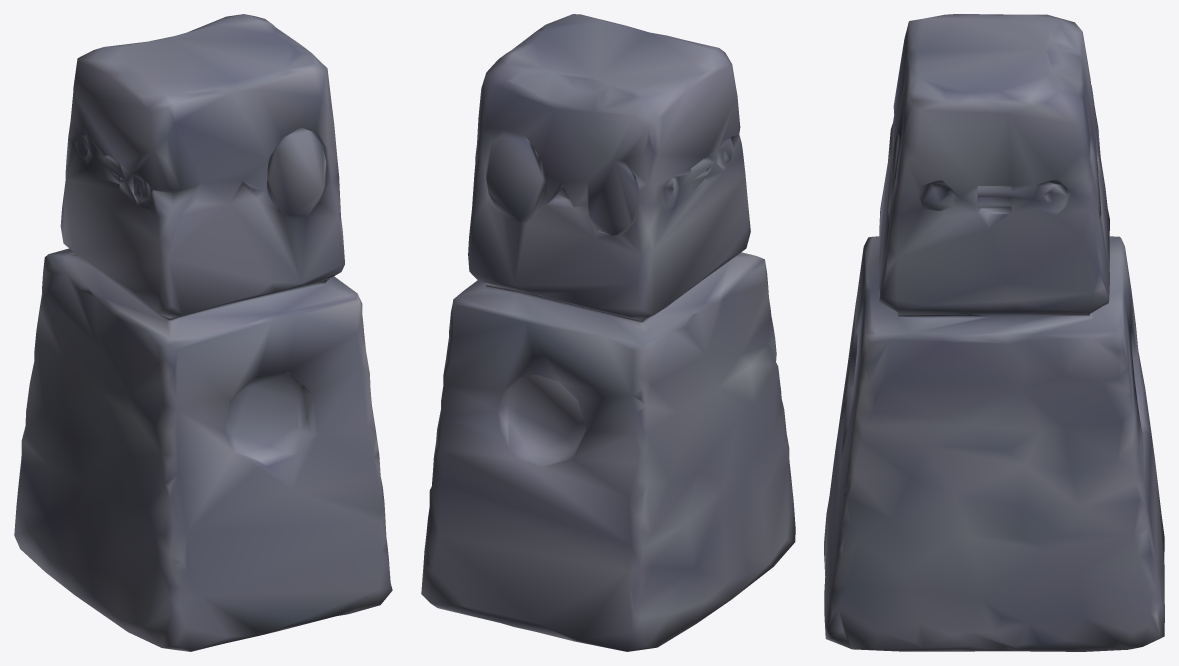
Rendered from building_stacked.glb.
3 views of the same model, side by side, from view 1: azimuth 30°, elevation 25°; view 2: azimuth 150°, elevation 25°; view 3: azimuth 270°, elevation 25° (orthographic). The views are drawn at different scales.
Parts seen in each view (by area): view 1: geometry_0; view 2: geometry_0; view 3: geometry_0.
Part boxes in pixels (bbox=[...]): geometry_0: bbox=[14, 14, 392, 651]; geometry_0: bbox=[421, 14, 795, 651]; geometry_0: bbox=[824, 14, 1164, 651].
Size of the model in its own units: 0.9624 by 1.9 by 1.09.
